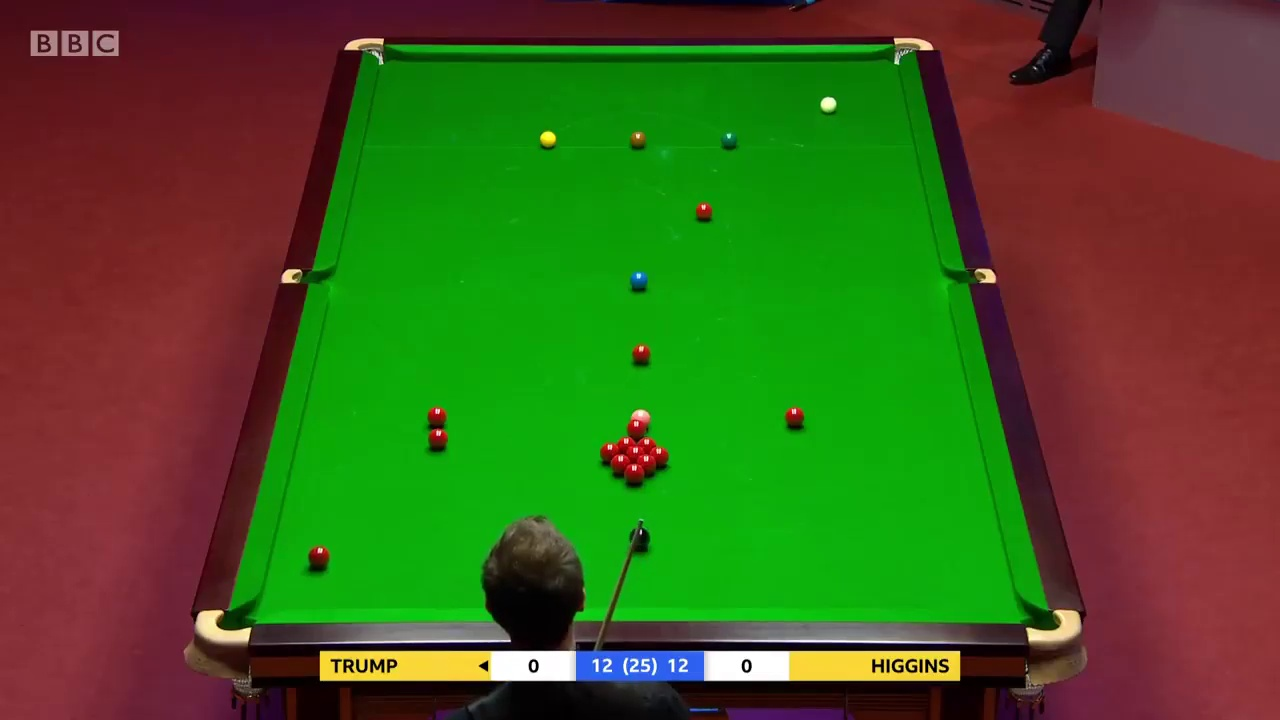ball: (628, 343, 656, 366), (307, 545, 330, 568), (621, 462, 645, 482), (426, 427, 447, 449), (783, 405, 803, 427), (538, 126, 557, 149), (629, 269, 646, 293), (819, 92, 836, 114), (693, 202, 710, 222), (631, 133, 646, 149), (723, 132, 736, 145)
